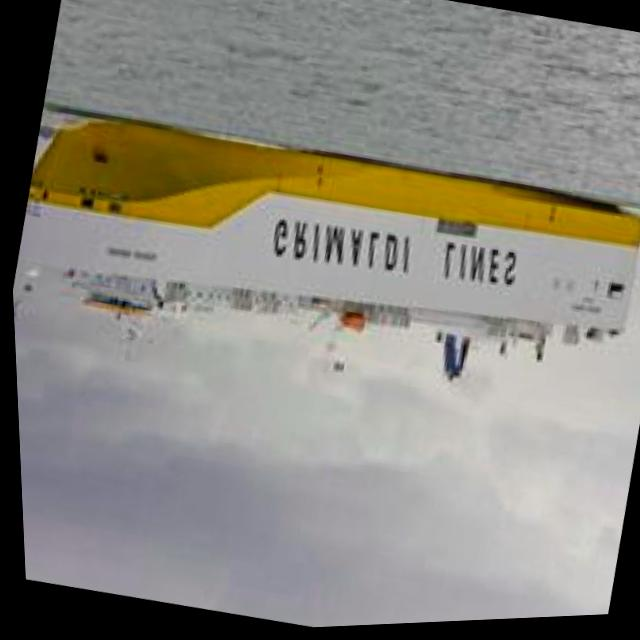ship2: (11, 116, 640, 385)
